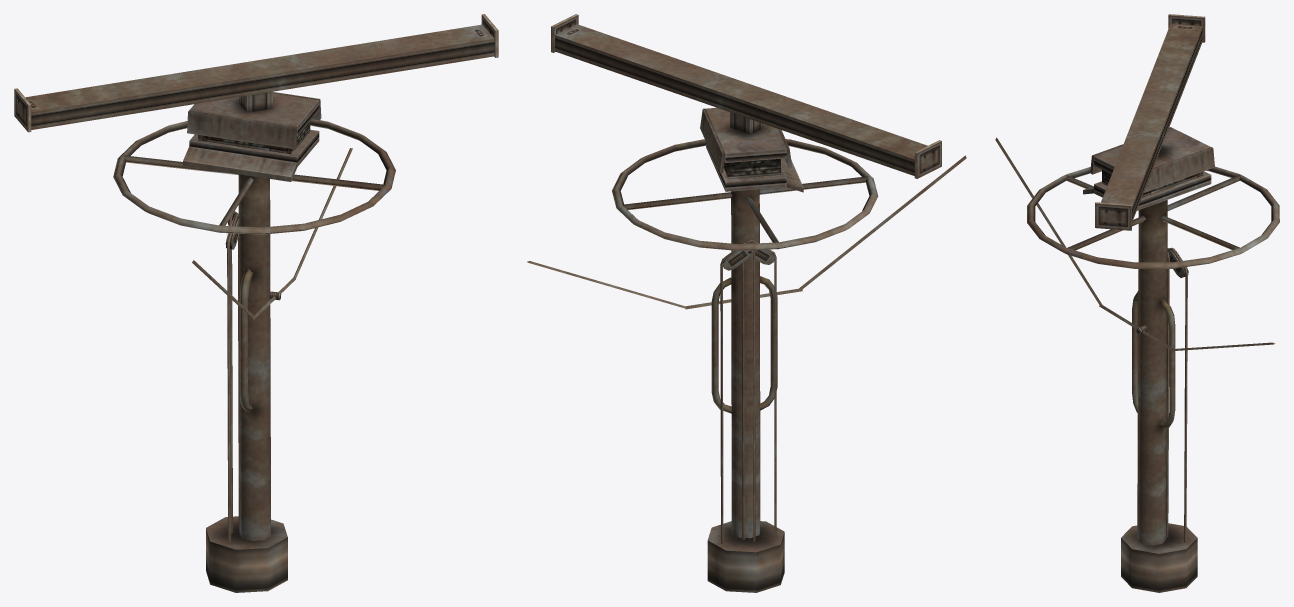
File: Tower.fbx
3 views of the same model, side by side, from view 1: azimuth 30°, elevation 25°; view 2: azimuth 150°, elevation 25°; view 3: azimuth 270°, elevation 25° (orthographic). The views are drawn at different scales.
Visible parts, largest first — view 1: tower, TowerTop; view 2: tower, TowerTop; view 3: tower, TowerTop.
Boxes of the visible parts, x1,y1,x2,y2 form: tower: (113,92,395,592); TowerTop: (14,14,498,132); tower: (527,107,966,592); TowerTop: (551,14,941,178); tower: (995,127,1279,592); TowerTop: (1095,14,1205,230).
Size of the model in its own units: 6.44 by 7.37 by 4.03.
